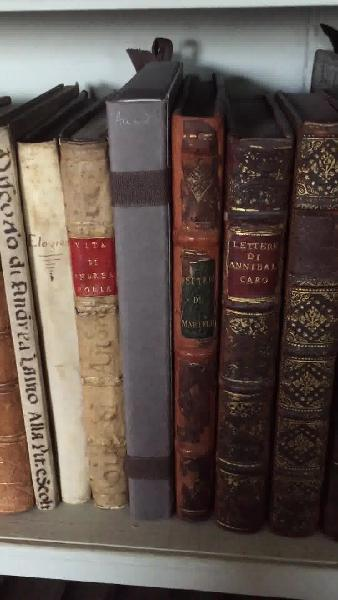Aa6-25: (13, 133, 101, 510)
Aa6-26: (56, 131, 137, 521)
Aa6-27: (110, 91, 181, 508)
Aa6-28: (163, 107, 218, 525)
Aa6-29: (222, 110, 281, 532)
Aa6-30: (281, 113, 338, 540)
